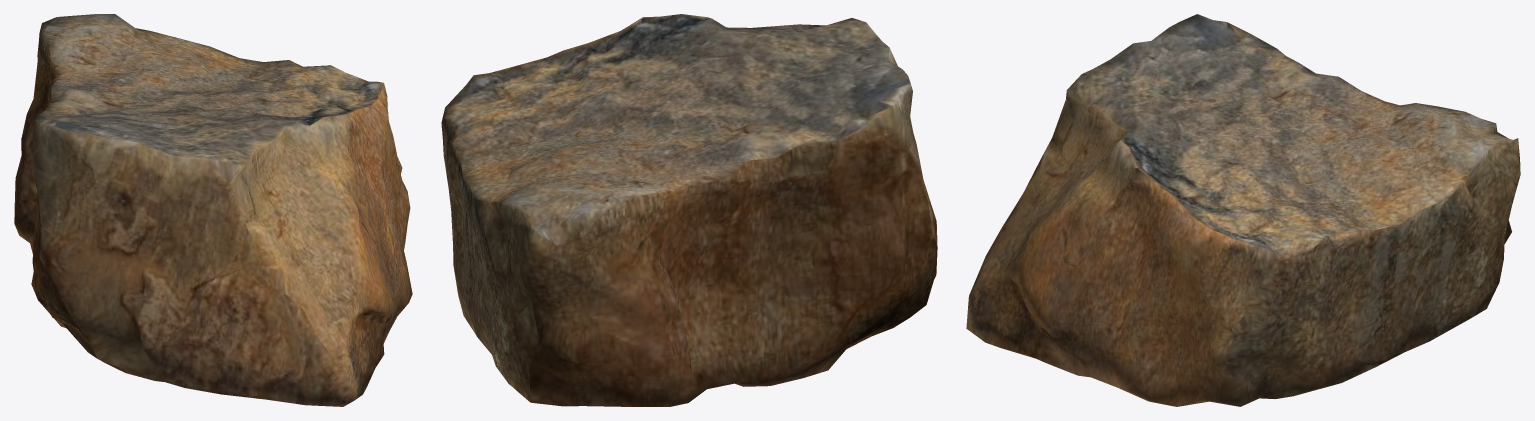
File: rock_boulder_03.glb
3 views of the same model, side by side, from view 1: azimuth 30°, elevation 25°; view 2: azimuth 150°, elevation 25°; view 3: azimuth 270°, elevation 25° (orthographic). The views are drawn at different scales.
Visible parts, largest first — view 1: rock_boulder_03; view 2: rock_boulder_03; view 3: rock_boulder_03.
Part boxes in pixels (<box>): rock_boulder_03: <box>14,14,412,406</box>; rock_boulder_03: <box>441,14,937,406</box>; rock_boulder_03: <box>966,14,1520,406</box>.
Size of the model in its own units: 2.41 by 1.47 by 3.06.
1 material, 1 textured.
